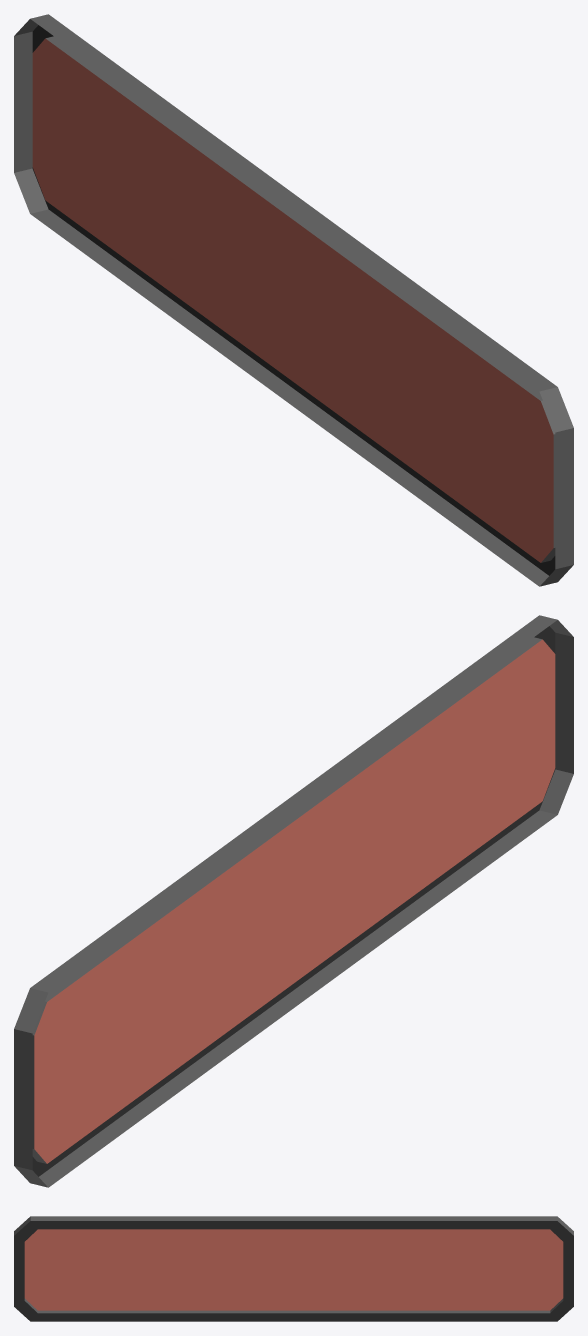
File: Building_Window_Large.fbx
3 renders of one model, top to bottom at view 1: azimuth 30°, elevation 25°; view 2: azimuth 150°, elevation 25°; view 3: azimuth 270°, elevation 25°, orthographic. The views are drawn at different scales.
Parts seen in each view (by area): view 1: Building_Window_Large; view 2: Building_Window_Large; view 3: Building_Window_Large.
Part boxes in pixels (<box>): Building_Window_Large: <box>14,14,573,586</box>; Building_Window_Large: <box>14,615,573,1187</box>; Building_Window_Large: <box>14,1216,573,1321</box>.
Bounding box in the file's own units: 9.92 × 100 × 503.
